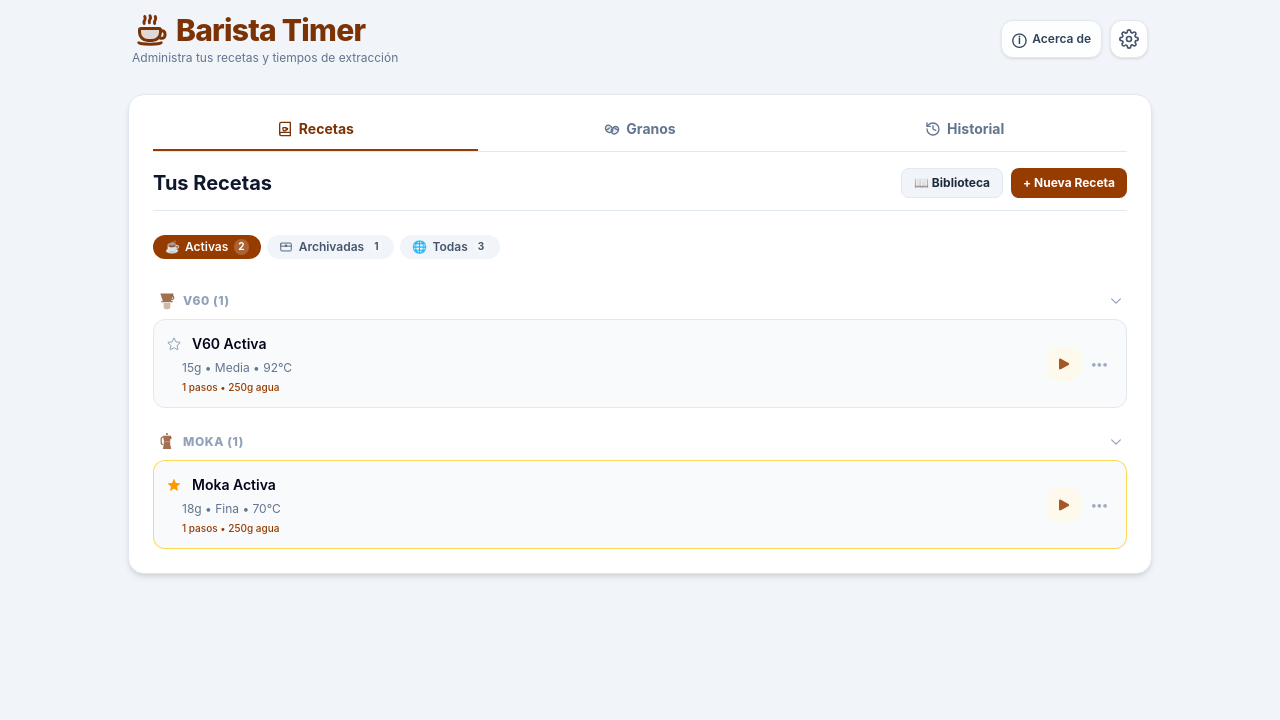
Sistema de Archivado de Recetas › App — Flujo de archivado integral › 10. Cambiar al filtro "Todas" muestra recetas archivadas con badge
Click the button titled "Ver todas las recetas". click: (450, 247)
box: [400, 235, 500, 259]
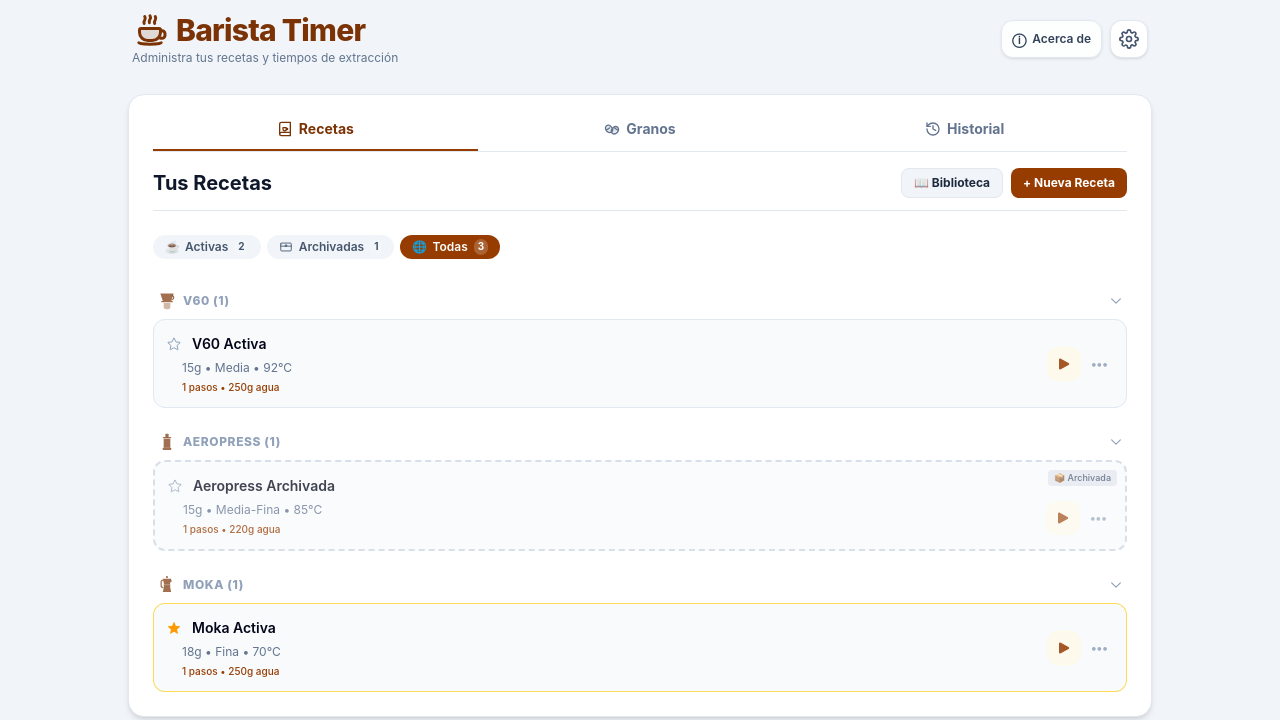
expect the text "Aeropress Archivada" is shown: met, box [193, 476, 335, 496]
expect the text "📦 Archivada" is shown: met, box [1048, 470, 1117, 486]
